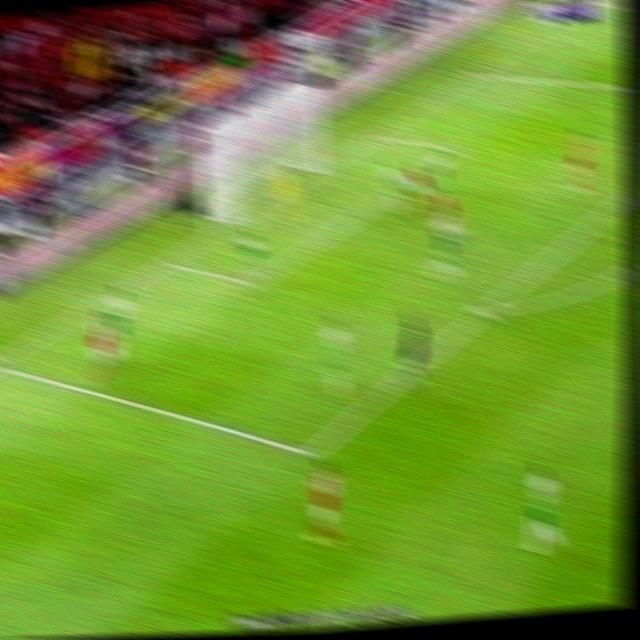bigarea_bottom_inner: (292, 435, 325, 468)
bigarea_bottom_outter: (0, 348, 6, 376)
bigarea_top_outter: (461, 62, 488, 84)
bottom_arc_area_intersection: (469, 292, 501, 325)
corner: (544, 15, 570, 32)
smallarea_bottom_inner: (237, 266, 266, 295)
smallarea_bottom_outter: (150, 247, 178, 274)
smallarea_top_inner: (440, 135, 468, 161)
smallarea_top_outter: (360, 123, 386, 148)
